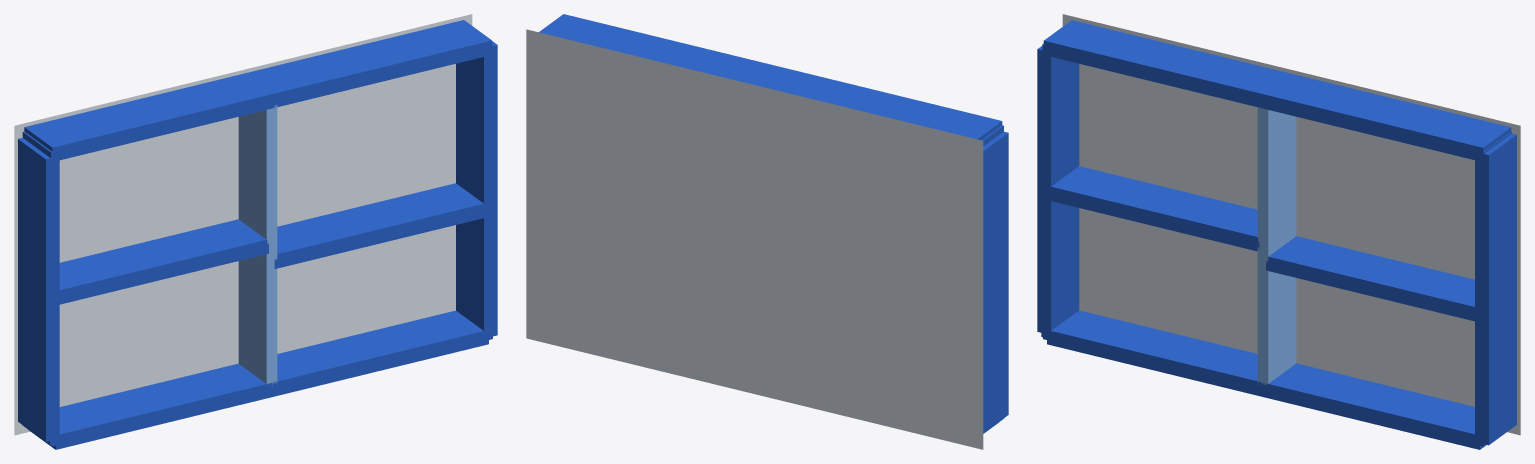
The model's file is example_2bhk.obj.
The picture shows the model from 3 angles, left to right: view 1: azimuth 30°, elevation 25°; view 2: azimuth 150°, elevation 25°; view 3: azimuth 330°, elevation 25°; orthographic projection.
Bounding box in the file's own units: 28.25 × 18.25 × 3.05.
